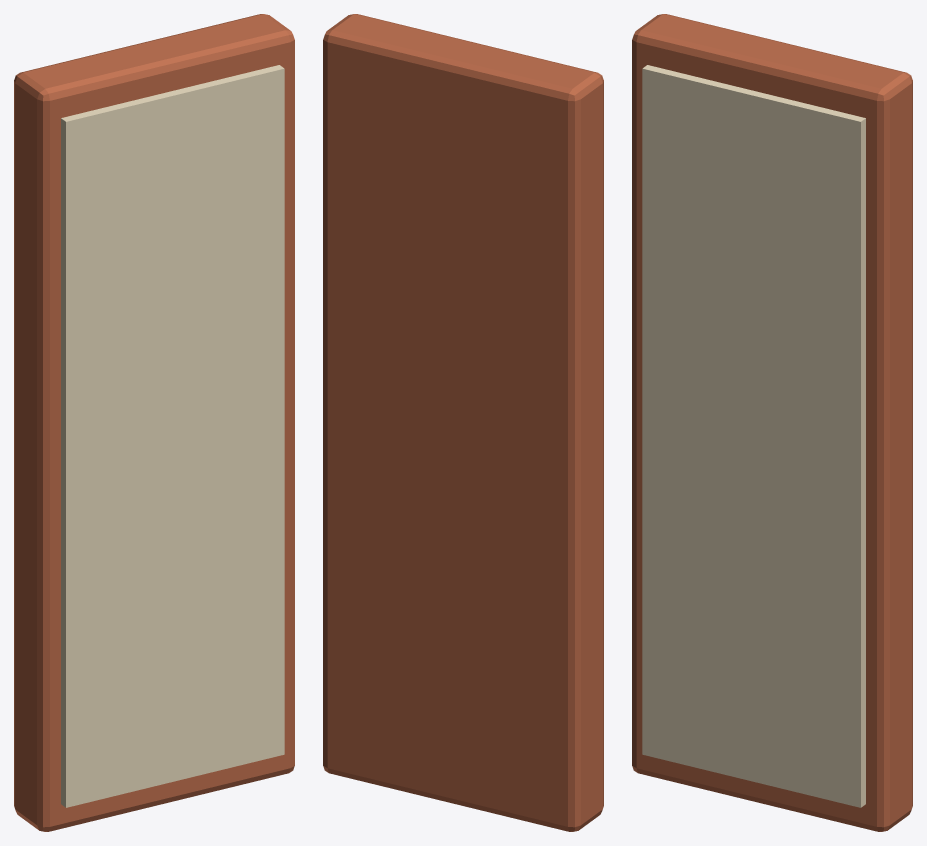
The model's file is tpe5_runtime_plaque_tall.glb.
3 views of the same model, side by side, from view 1: azimuth 30°, elevation 25°; view 2: azimuth 150°, elevation 25°; view 3: azimuth 330°, elevation 25° (orthographic).
Visible parts, largest first — view 1: tpe5_runtime_plaque_tall__tpe5-street-ivory, tpe5_runtime_plaque_tall__tpe5-street-cinnabar; view 2: tpe5_runtime_plaque_tall__tpe5-street-cinnabar; view 3: tpe5_runtime_plaque_tall__tpe5-street-ivory, tpe5_runtime_plaque_tall__tpe5-street-cinnabar.
Boxes of the visible parts, <box> form: tpe5_runtime_plaque_tall__tpe5-street-ivory: <box>61,65,284,807</box>; tpe5_runtime_plaque_tall__tpe5-street-cinnabar: <box>14,14,294,831</box>; tpe5_runtime_plaque_tall__tpe5-street-cinnabar: <box>323,14,603,831</box>; tpe5_runtime_plaque_tall__tpe5-street-ivory: <box>642,65,865,807</box>; tpe5_runtime_plaque_tall__tpe5-street-cinnabar: <box>632,14,912,831</box>.
Bounding box in the file's own units: 0.94 × 2.6 × 0.2325.
